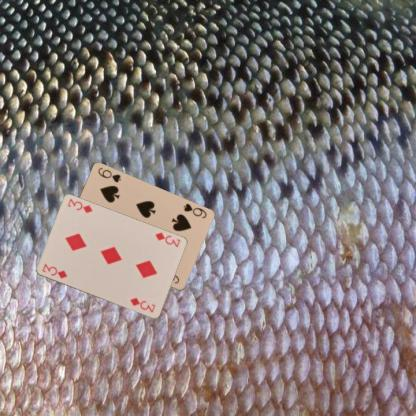3d: (152, 230, 182, 248), (39, 262, 68, 280)
6s: (180, 201, 208, 220)
